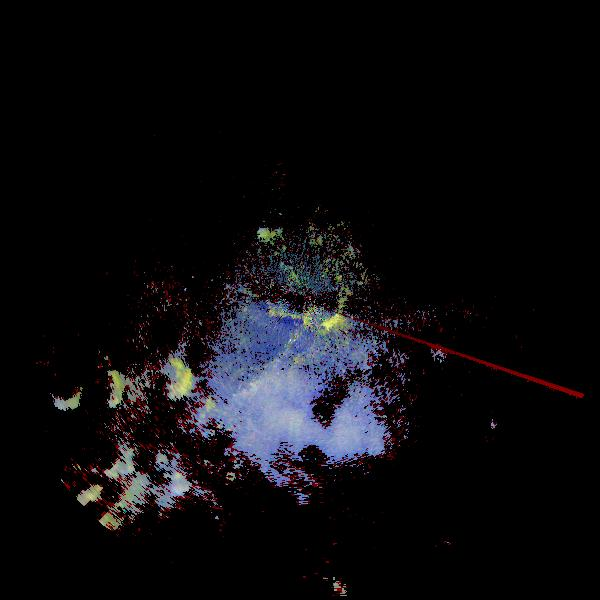roost: (53, 338, 152, 437), (16, 337, 109, 430), (139, 346, 205, 412)
